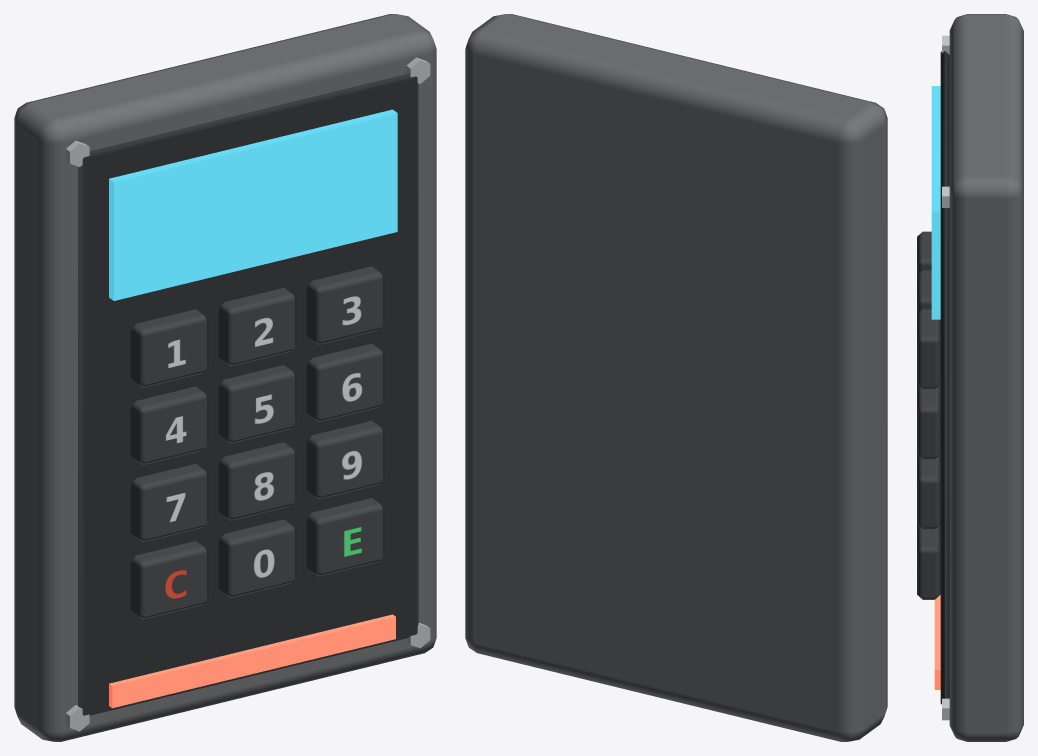
The model's file is keypad_panel.glb.
3 views of the same model, side by side, from view 1: azimuth 30°, elevation 25°; view 2: azimuth 150°, elevation 25°; view 3: azimuth 270°, elevation 25° (orthographic). The views are drawn at different scales.
Visible parts, largest first — view 1: keypad_panel; view 2: keypad_panel; view 3: keypad_panel.
Part boxes in pixels (x1,y1,x2,y2): keypad_panel: (14, 14, 436, 741); keypad_panel: (465, 14, 887, 741); keypad_panel: (917, 14, 1023, 741).
Bounding box in the file's own units: 0.28 × 0.42 × 0.0725.
7 materials, 1 textured.
